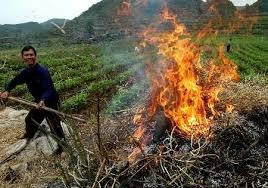fire: (132, 1, 240, 142)
